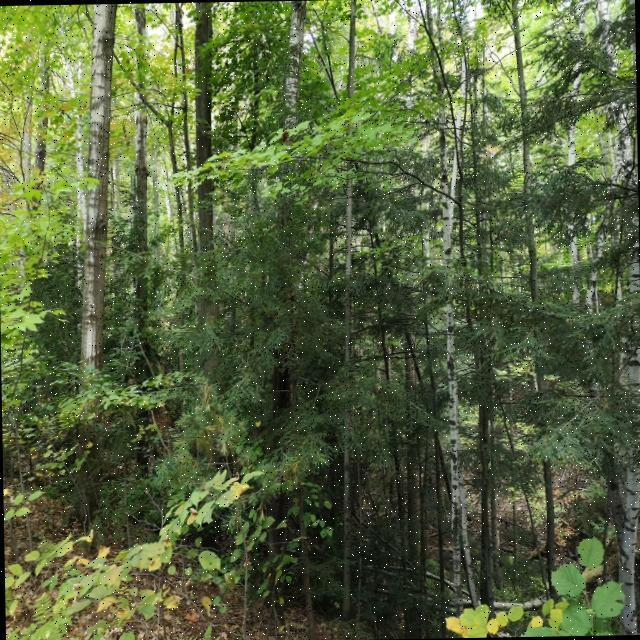fallen_object: (405, 504, 596, 638)
